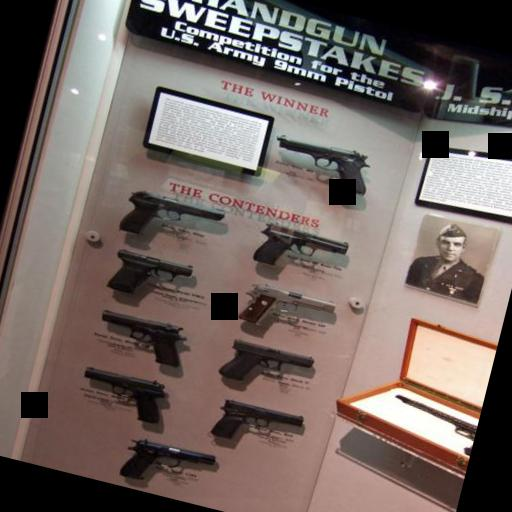Handgun: (263, 129, 378, 200), (247, 216, 357, 286), (214, 330, 322, 400), (116, 430, 223, 500), (88, 300, 192, 372), (116, 184, 222, 252), (72, 360, 174, 428), (205, 392, 307, 460), (233, 276, 338, 342), (103, 240, 200, 310)
